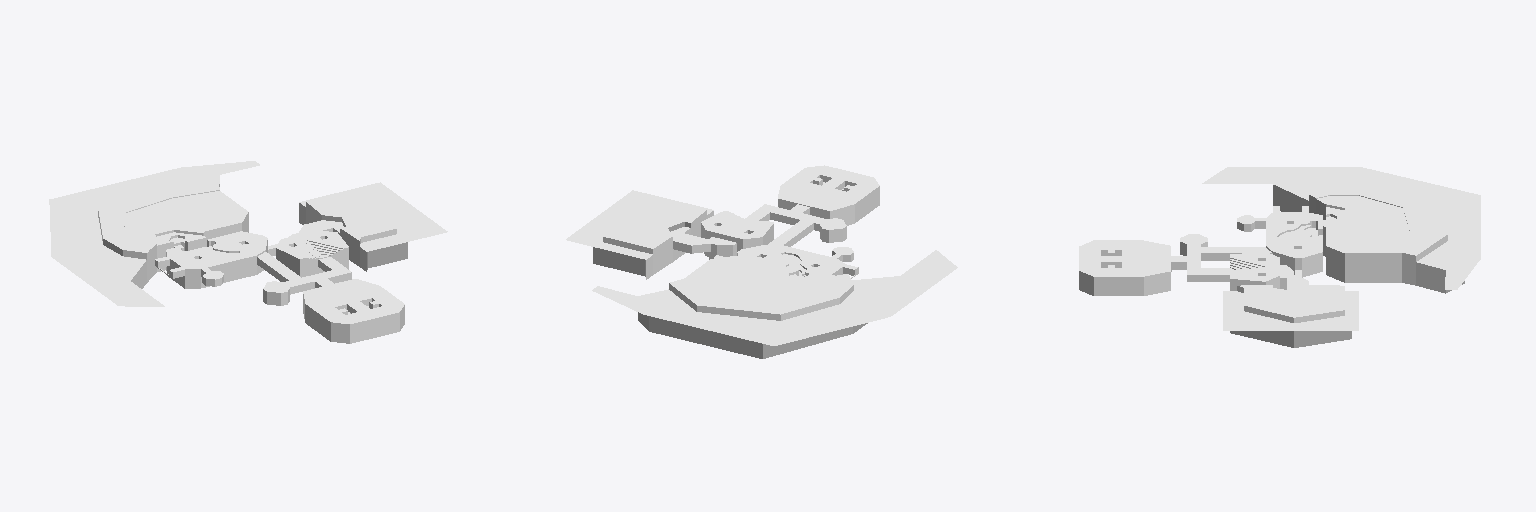
The model's file is doom2_e1m1.obj.
The picture shows the model from 3 angles: view 1: azimuth 30°, elevation 25°; view 2: azimuth 150°, elevation 25°; view 3: azimuth 270°, elevation 25°; orthographic projection.
Visible parts, largest first — view 1: doom2_e1m1; view 2: doom2_e1m1; view 3: doom2_e1m1.
Boxes of the visible parts, x1,y1,x2,y2 form: doom2_e1m1: [49, 161, 447, 343]; doom2_e1m1: [566, 165, 957, 358]; doom2_e1m1: [1079, 167, 1480, 347].
Bounding box in the file's own units: 3376 × 304 × 3584.